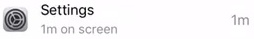name: (37, 1, 98, 20)
time: (38, 22, 59, 36)
